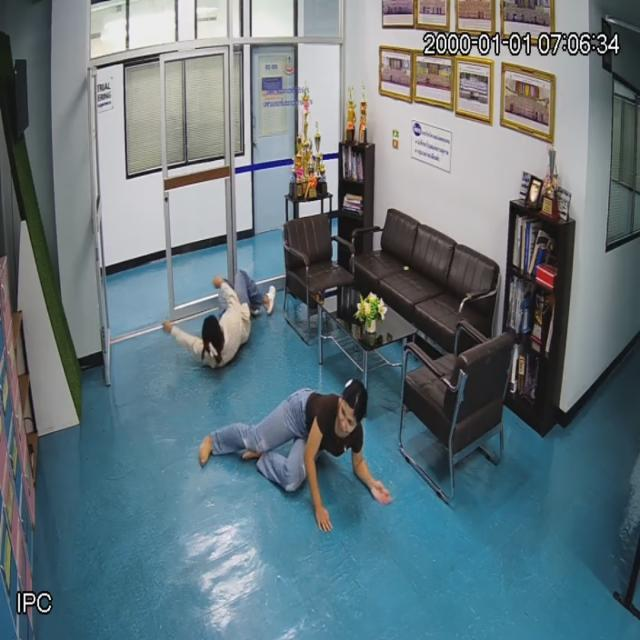fall: (204, 379, 368, 504), (170, 268, 276, 368)
